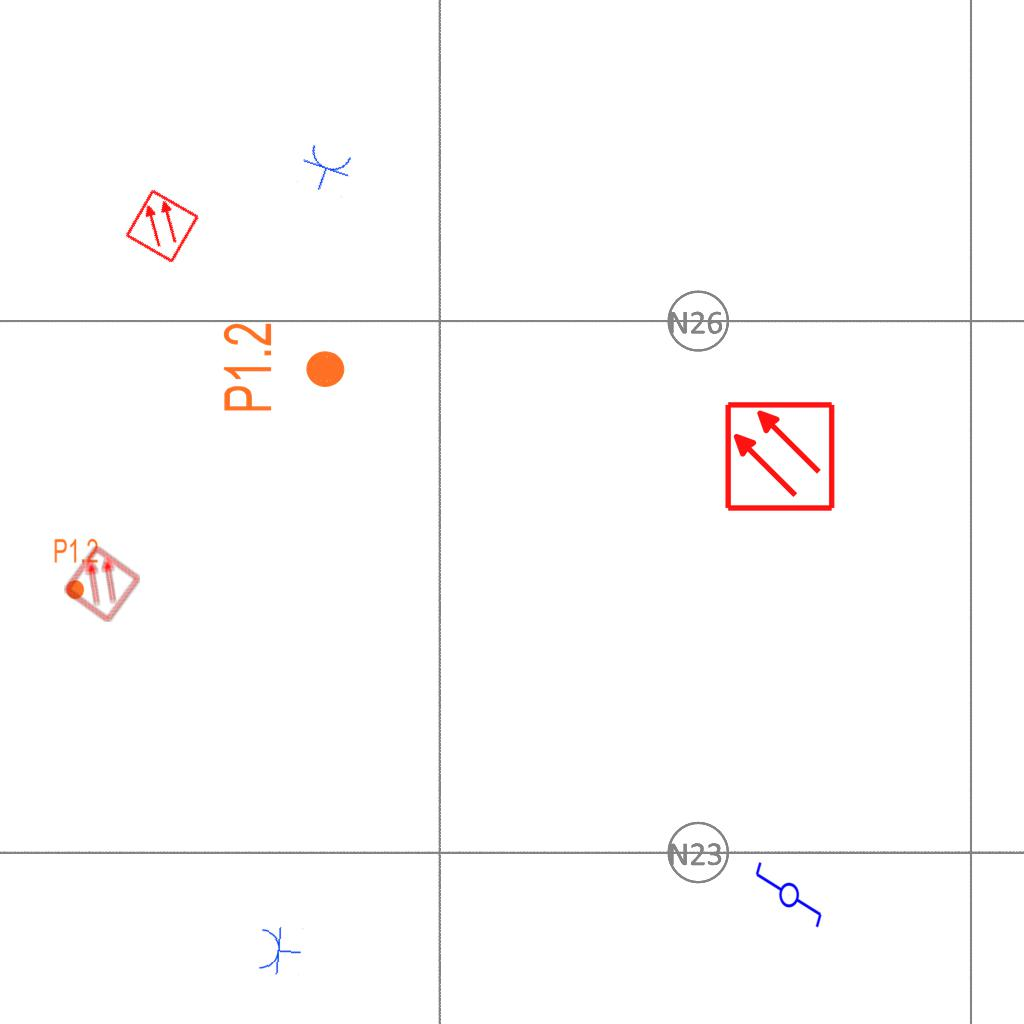Downlight_LED_Einbauleuchten_Flur: (220, 321, 348, 414), (53, 537, 99, 601)
RMO_Rauchmelder_optischer: (723, 400, 836, 513), (62, 544, 142, 624), (123, 187, 201, 265)
Schukosteckdose_einfach: (295, 141, 357, 198), (256, 923, 304, 978)
Wechselschalter: (752, 860, 824, 938)
